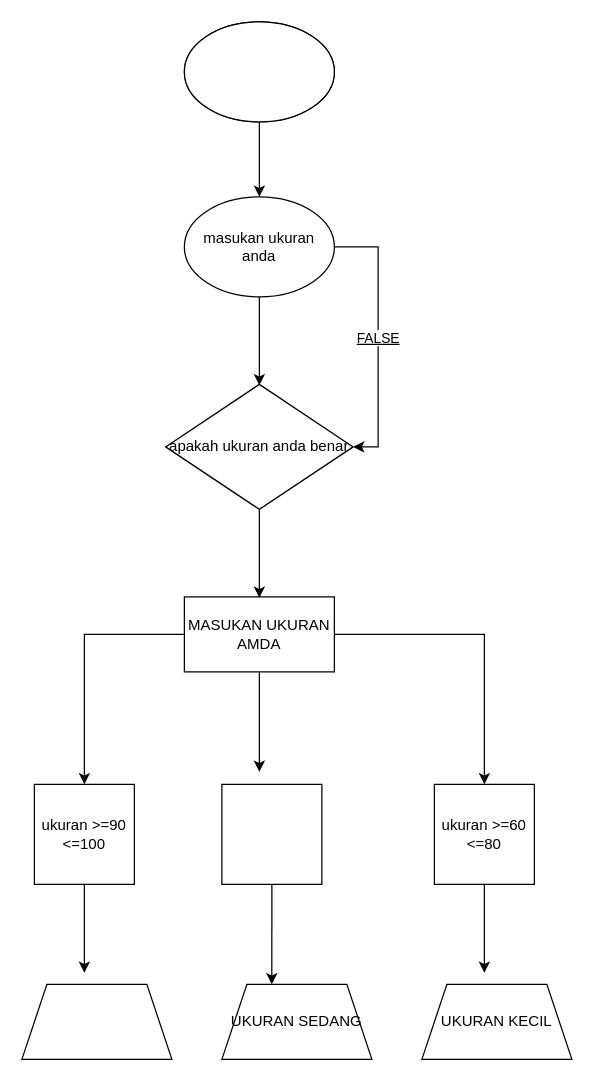
This 594x1081 diagram has some shape labels left out. The shapes that lost their labels are listed below. From the top down, each one's centre as x and y in pixels, then its label:
At (x=258, y=71): "start".
At (x=271, y=833): "ukuran >=80<+90".
At (x=96, y=1021): "UKURAN BESAR".
